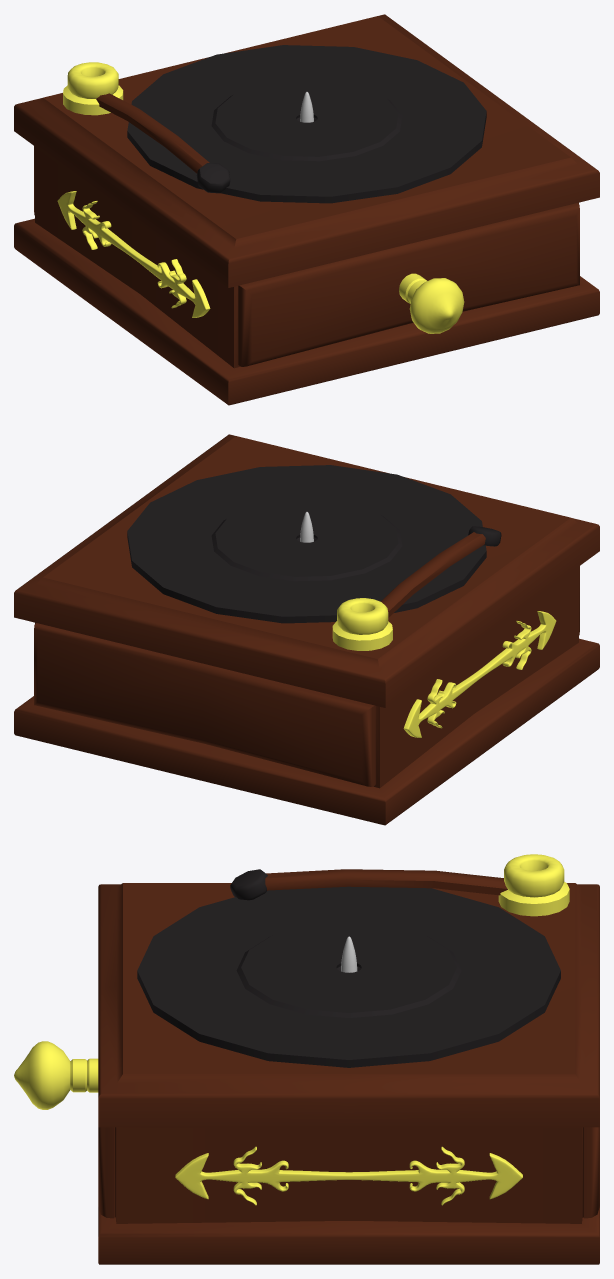
The model's file is Gramophone_Body.fbx.
The picture shows the model from 3 angles, top to bottom: view 1: azimuth 30°, elevation 25°; view 2: azimuth 150°, elevation 25°; view 3: azimuth 270°, elevation 25°; orthographic projection. The views are drawn at different scales.
Parts seen in each view (by area): view 1: Box, Vinyl, GoldTrim, Spinner, Knob, Horn_Socket; view 2: Box, Vinyl, GoldTrim, Horn_Socket, Spinner; view 3: Box, Vinyl, GoldTrim, Spinner, Knob, Horn_Socket.
Part boxes in pixels (x1=…): Box: x1=14, y1=14, x2=599, y2=405; Vinyl: x1=127, y1=45, x2=486, y2=203; GoldTrim: x1=57, y1=191, x2=210, y2=317; Spinner: x1=96, y1=93, x2=230, y2=193; Knob: x1=399, y1=273, x2=464, y2=333; Horn_Socket: x1=63, y1=62, x2=123, y2=115; Box: x1=14, y1=434, x2=599, y2=825; Vinyl: x1=127, y1=465, x2=486, y2=623; GoldTrim: x1=403, y1=611, x2=556, y2=737; Horn_Socket: x1=332, y1=598, x2=392, y2=650; Spinner: x1=381, y1=526, x2=501, y2=617; Box: x1=98, y1=883, x2=599, y2=1264; Vinyl: x1=137, y1=886, x2=560, y2=1067; GoldTrim: x1=175, y1=1146, x2=522, y2=1205; Spinner: x1=230, y1=869, x2=507, y2=900; Knob: x1=14, y1=1041, x2=98, y2=1109; Horn_Socket: x1=498, y1=854, x2=569, y2=916.
Bounding box in the file's own units: 100 × 49.23 × 117.
